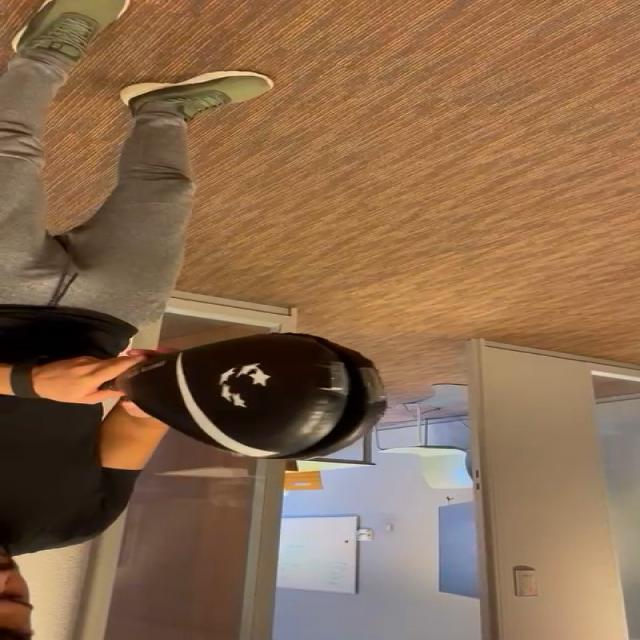paddle: (150, 335, 390, 462)
